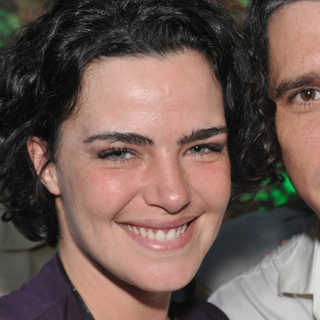eye: (91, 139, 145, 168), (276, 82, 320, 107), (179, 139, 225, 162)
